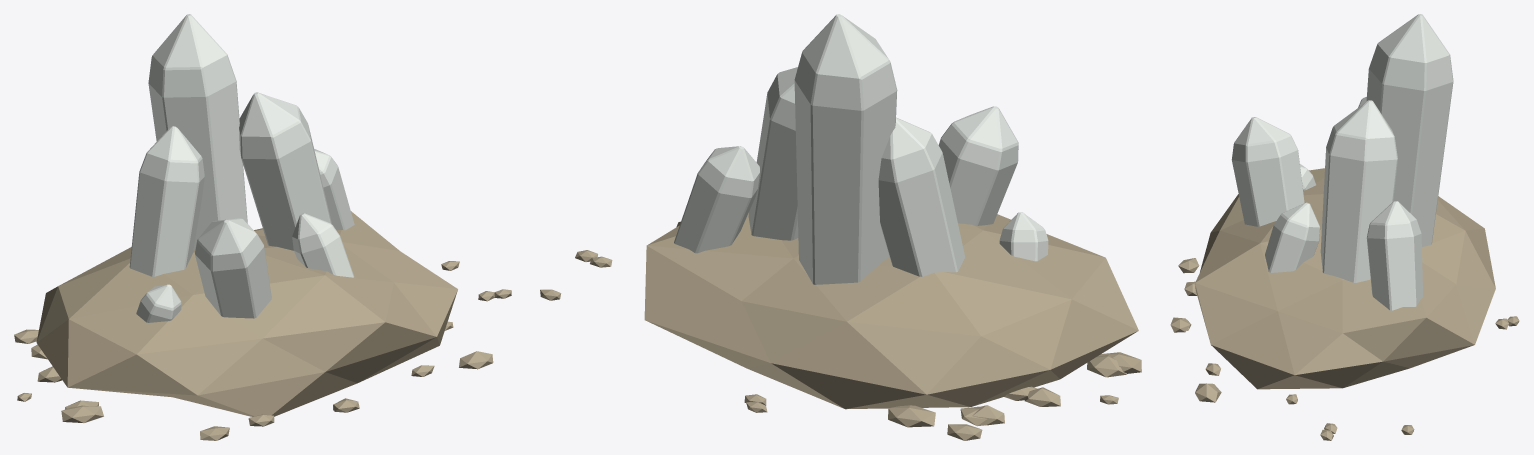
The model's file is SM_SilicaDeposit.fbx.
The picture shows the model from 3 angles, left to right: view 1: azimuth 30°, elevation 25°; view 2: azimuth 150°, elevation 25°; view 3: azimuth 270°, elevation 25°; orthographic projection. The views are drawn at different scales.
Visible parts, largest first — view 1: SM_SilicaDeposit.001; view 2: SM_SilicaDeposit.001; view 3: SM_SilicaDeposit.001.
Part boxes in pixels (<box>): SM_SilicaDeposit.001: <box>14,14,511,440</box>; SM_SilicaDeposit.001: <box>540,14,1141,440</box>; SM_SilicaDeposit.001: <box>1170,14,1519,440</box>.
Bounding box in the file's own units: 280 × 183 × 173.
